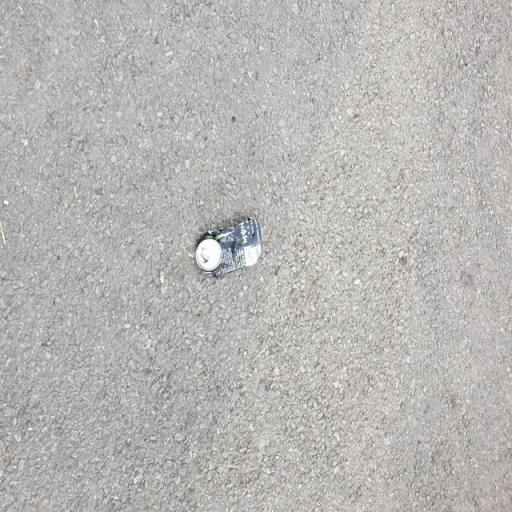metal: (182, 206, 272, 294)
